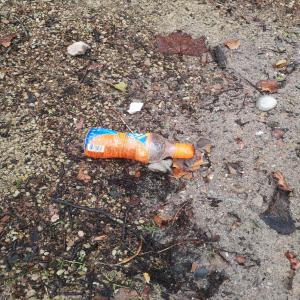Plastic-bottle: (80, 125, 200, 166)
